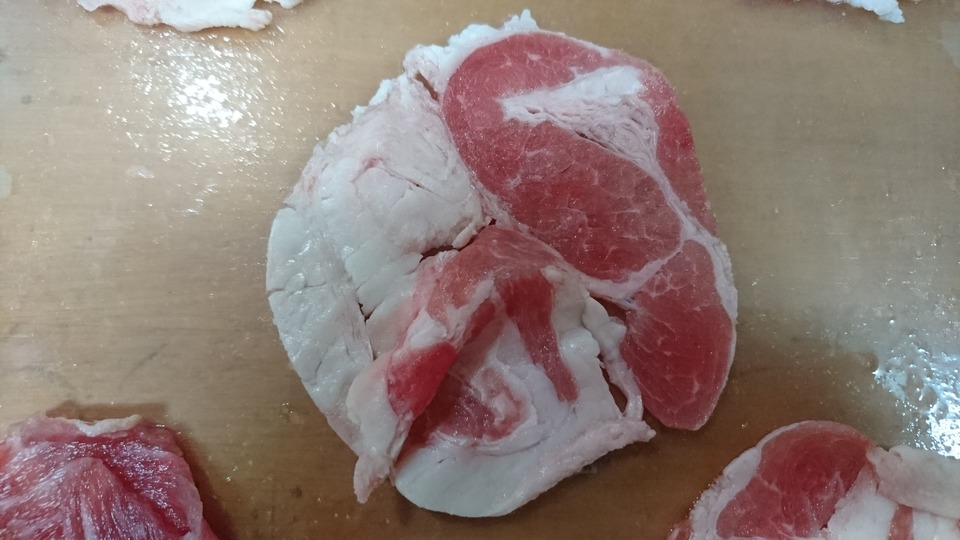restructured meat: (260, 18, 738, 519)
